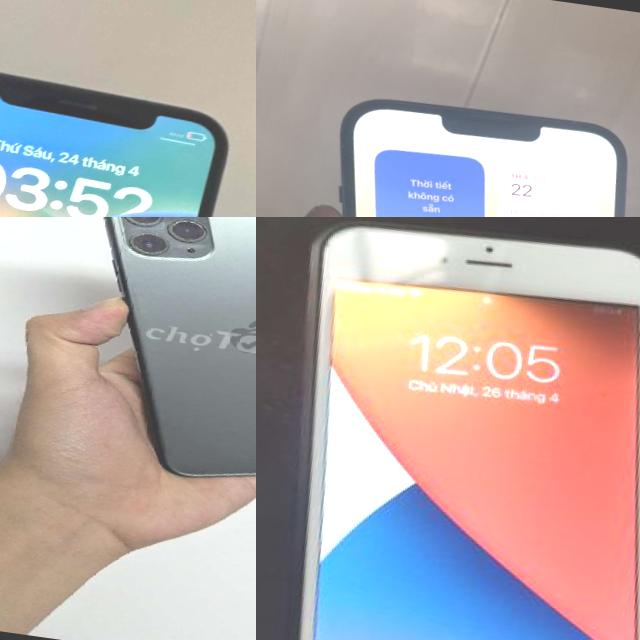gen_11: (105, 217, 256, 476)
gen_12_13: (285, 85, 640, 217)
gen_6: (256, 221, 640, 640)
gen_x_xs: (0, 51, 225, 217)
